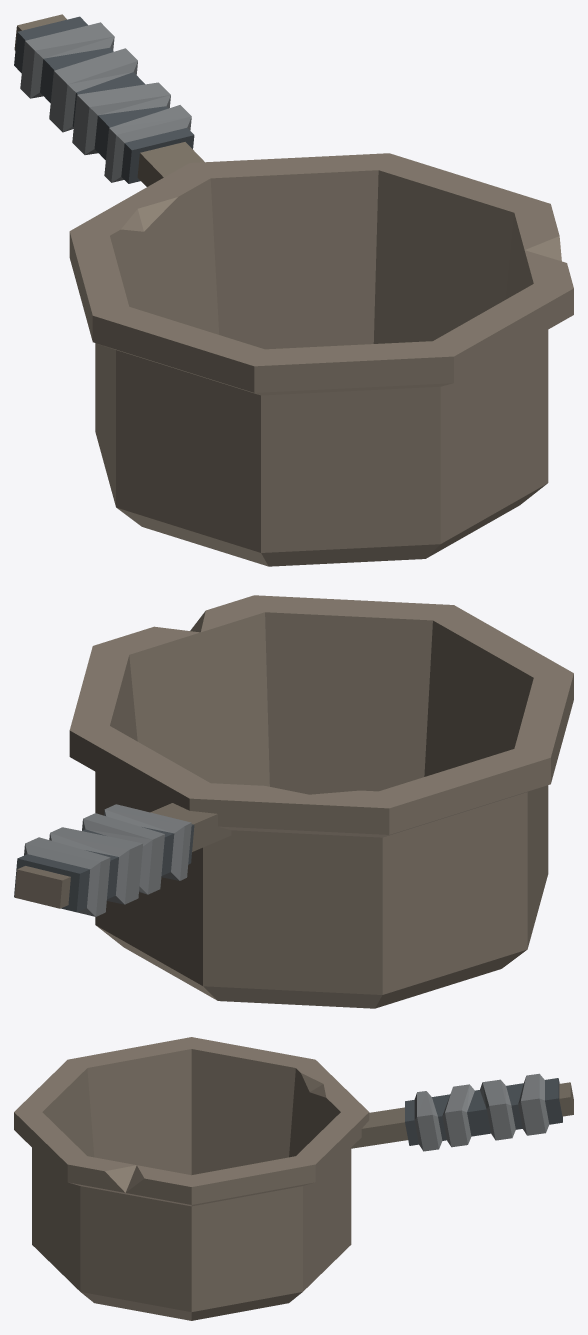
File: SM_Prop_Pot_02.fbx
3 renders of one model, top to bottom at view 1: azimuth 30°, elevation 25°; view 2: azimuth 150°, elevation 25°; view 3: azimuth 270°, elevation 25°, orthographic. The views are drawn at different scales.
Parts seen in each view (by area): view 1: SM_Prop_Pot_02; view 2: SM_Prop_Pot_02; view 3: SM_Prop_Pot_02.
Part boxes in pixels (x1,y1,x2,y2): SM_Prop_Pot_02: [14, 14, 573, 566]; SM_Prop_Pot_02: [14, 595, 573, 1008]; SM_Prop_Pot_02: [14, 1037, 573, 1320].
Bounding box in the file's own units: 0.00367 × 0.00201 × 0.00579.
Materials: 1 (1 with a texture image).
